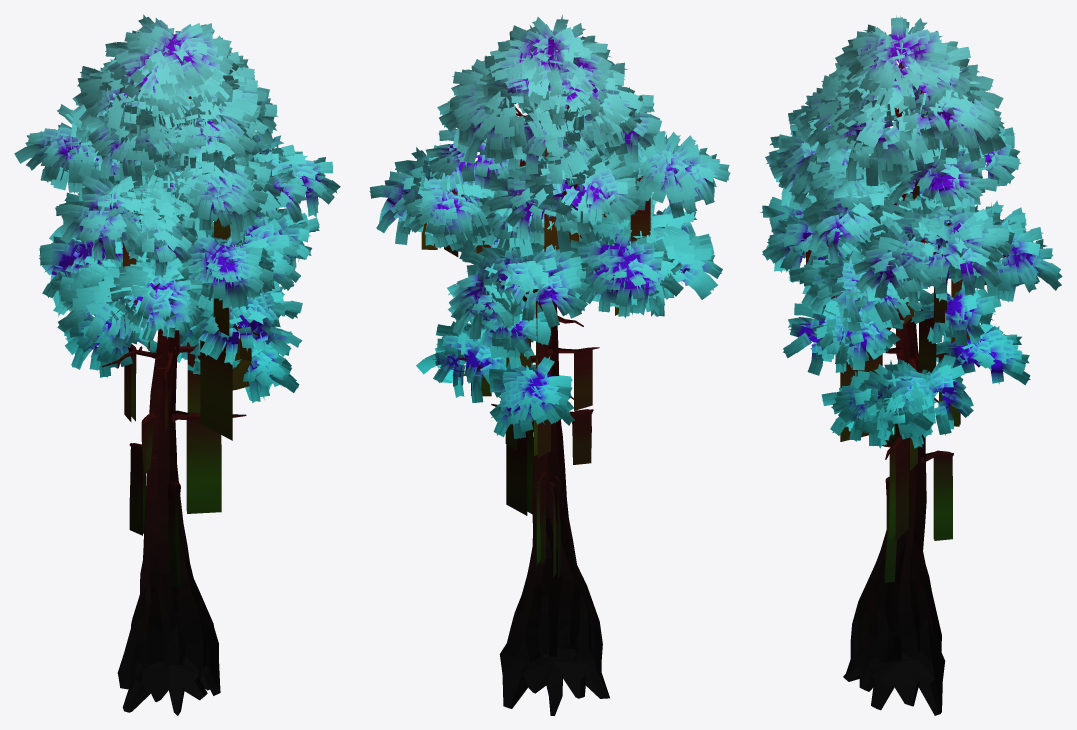
The model's file is SM_Env_Tree_Swamp_01_ALT.fbx.
3 views of the same model, side by side, from view 1: azimuth 30°, elevation 25°; view 2: azimuth 150°, elevation 25°; view 3: azimuth 270°, elevation 25° (orthographic).
Visible parts, largest first — view 1: SM_Env_Tree_Swamp_01_ALT_LOD0, SM_Env_Tree_Swamp_01_ALT_MOSS_LOD0; view 2: SM_Env_Tree_Swamp_01_ALT_LOD0, SM_Env_Tree_Swamp_01_ALT_MOSS_LOD0; view 3: SM_Env_Tree_Swamp_01_ALT_LOD0, SM_Env_Tree_Swamp_01_ALT_MOSS_LOD0.
Part boxes in pixels (<box>): SM_Env_Tree_Swamp_01_ALT_LOD0: <box>14,14,340,715</box>; SM_Env_Tree_Swamp_01_ALT_MOSS_LOD0: <box>123,213,251,588</box>; SM_Env_Tree_Swamp_01_ALT_LOD0: <box>369,14,730,715</box>; SM_Env_Tree_Swamp_01_ALT_MOSS_LOD0: <box>421,147,650,577</box>; SM_Env_Tree_Swamp_01_ALT_LOD0: <box>760,15,1062,715</box>; SM_Env_Tree_Swamp_01_ALT_MOSS_LOD0: <box>806,180,986,582</box>.
Size of what is drawn, in the model's own units: 1018 by 2224 by 899.
